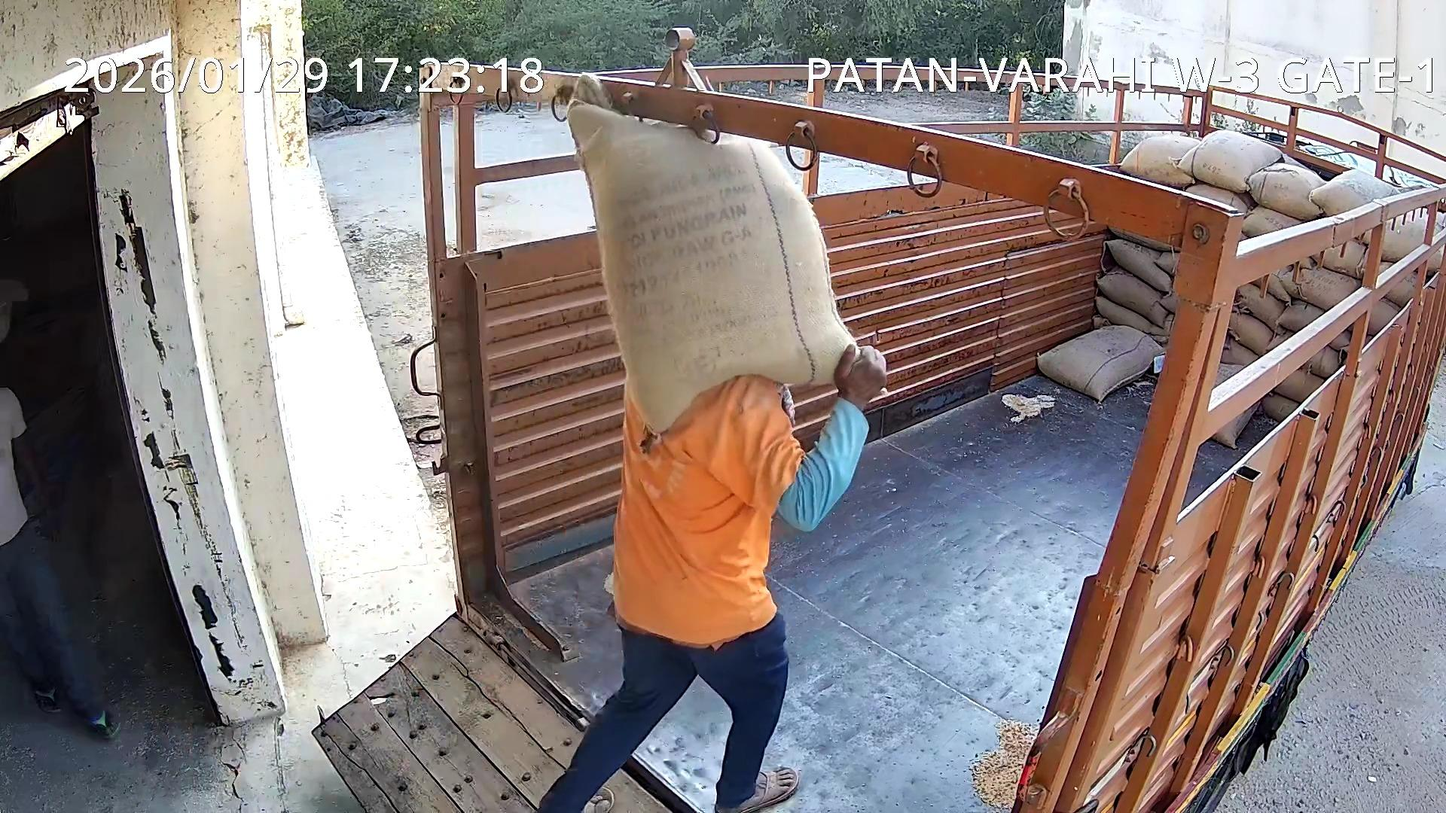Sack: (569, 75, 853, 430)
